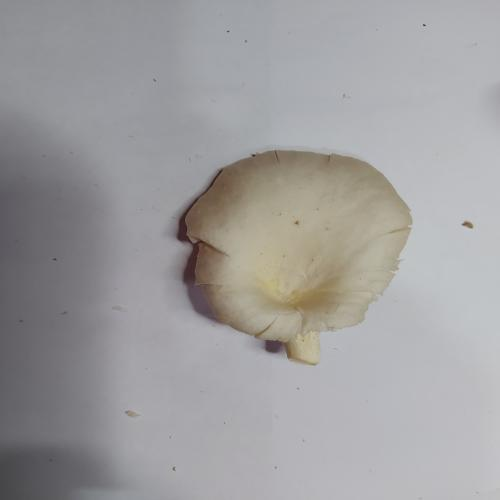Oyster Mushroom: (183, 148, 413, 366)
